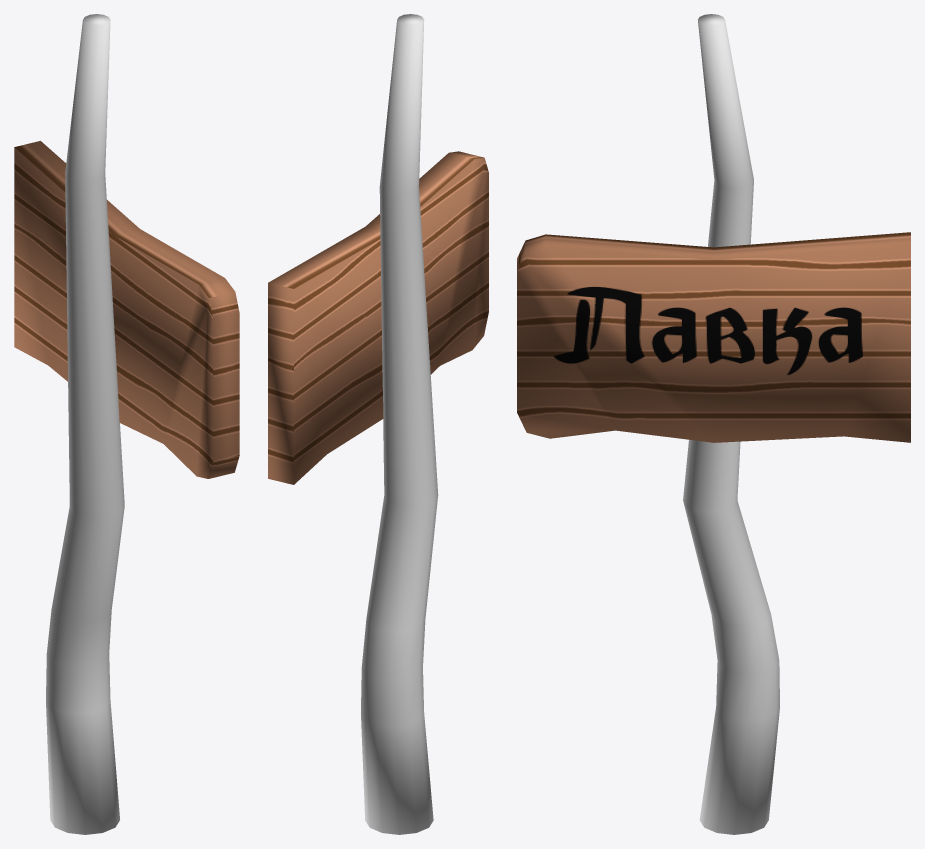
File: tablichka2.fbx
The picture shows the model from 3 angles, left to right: view 1: azimuth 30°, elevation 25°; view 2: azimuth 150°, elevation 25°; view 3: azimuth 270°, elevation 25°; orthographic projection. The views are drawn at different scales.
Parts seen in each view (by area): view 1: Cylinder, Cube; view 2: Cylinder, Cube; view 3: Cube, Cylinder.
Boxes of the visible parts, x1,y1,x2,y2 form: Cylinder: (46, 14, 124, 834); Cube: (14, 141, 239, 478); Cylinder: (361, 14, 438, 834); Cube: (268, 151, 488, 484); Cube: (517, 232, 910, 442); Cylinder: (683, 14, 779, 834).
Size of the model in its own units: 78.46 by 809 by 361.
1 material, 1 textured.
